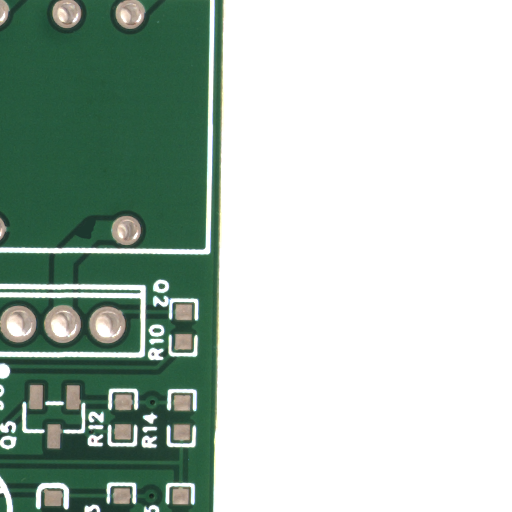Mouse_bite: (87, 229, 110, 253)
